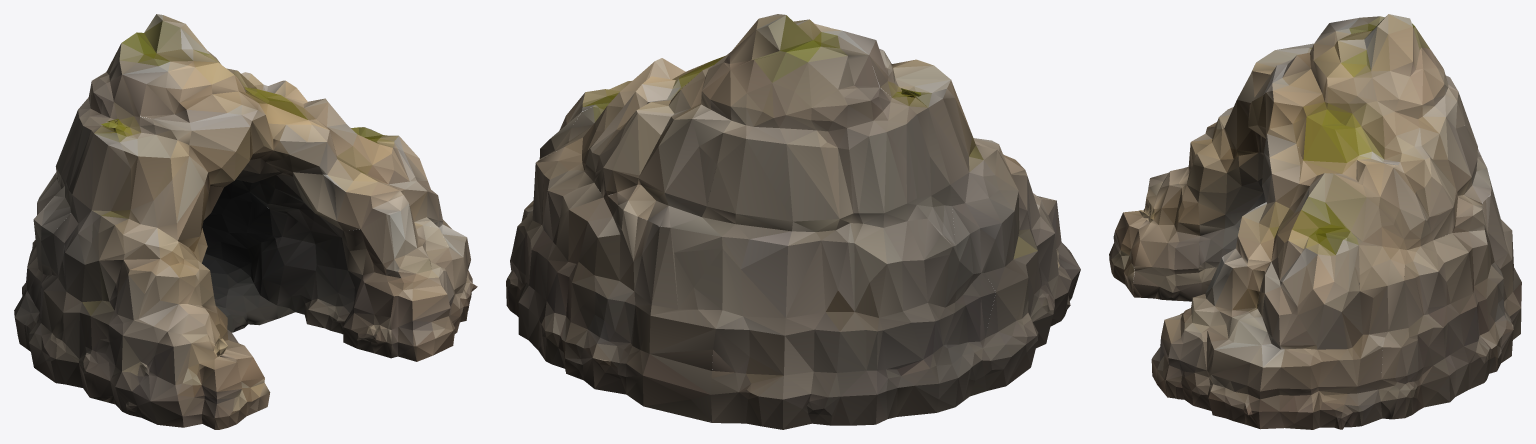
File: land-seaCaveMouth.glb
3 renders of one model, left to right at view 1: azimuth 30°, elevation 25°; view 2: azimuth 150°, elevation 25°; view 3: azimuth 270°, elevation 25°, orthographic. The views are drawn at different scales.
Visible parts, largest first — view 1: 0_seaCaveMouth; view 2: 0_seaCaveMouth; view 3: 0_seaCaveMouth.
Boxes of the visible parts, x1,y1,x2,y2 form: 0_seaCaveMouth: (14,14,477,429); 0_seaCaveMouth: (506,14,1080,429); 0_seaCaveMouth: (1109,14,1521,429).
Bounding box in the file's own units: 4 × 2.71 × 3.45.
